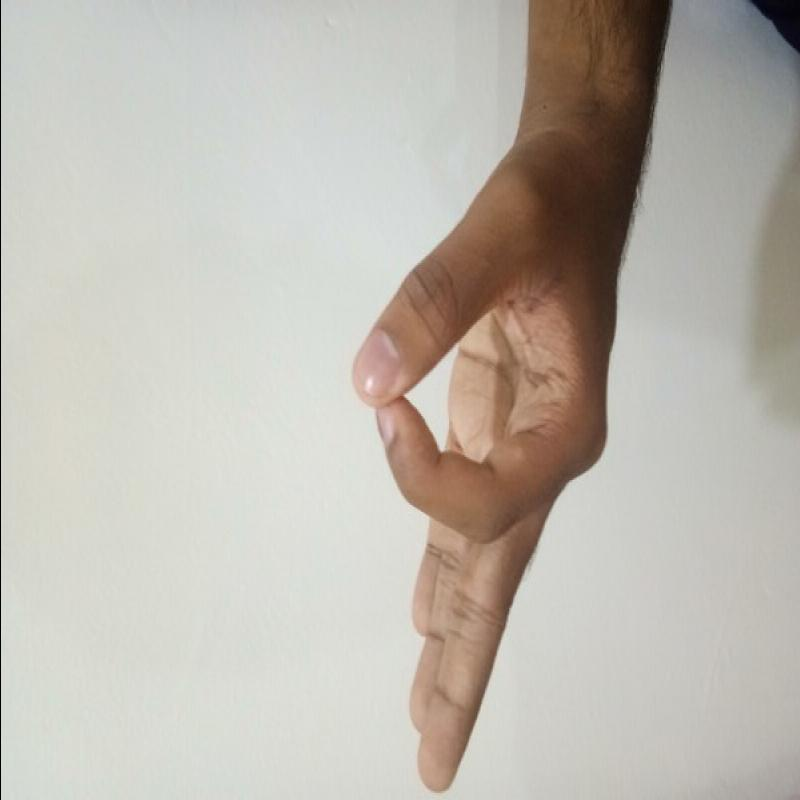Mudraakhyam: (328, 144, 663, 800)
